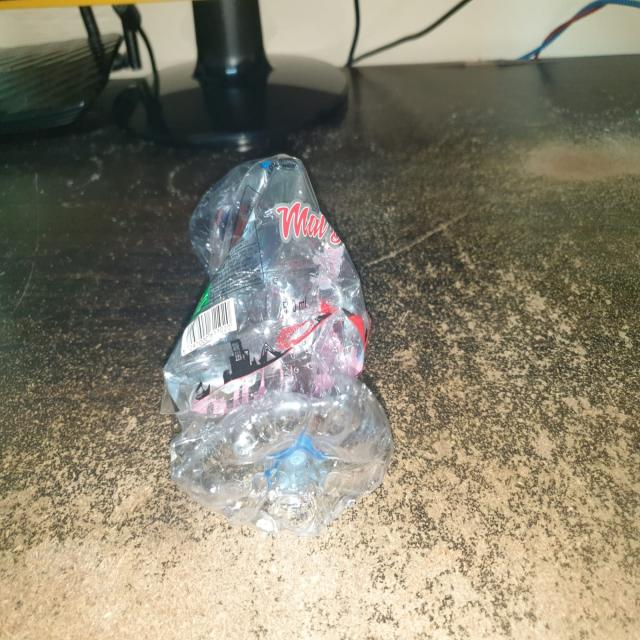plastic bottle: (158, 139, 394, 529)
